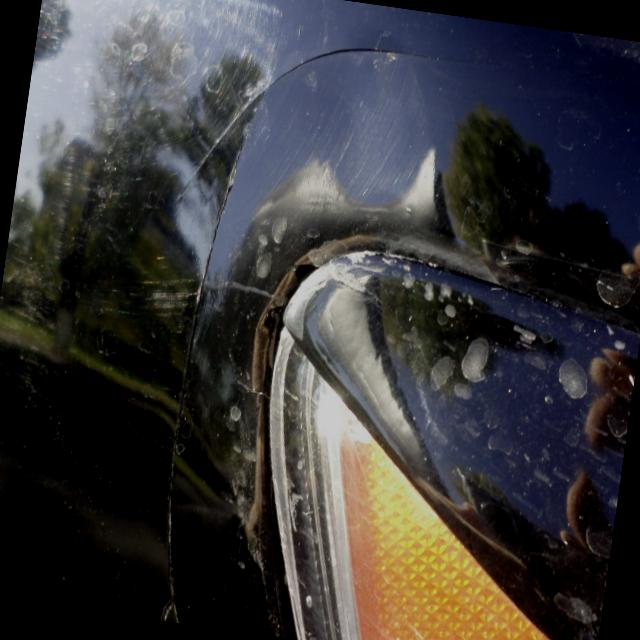Dechirure: (199, 186, 556, 640), (150, 8, 490, 237), (137, 129, 290, 629)
